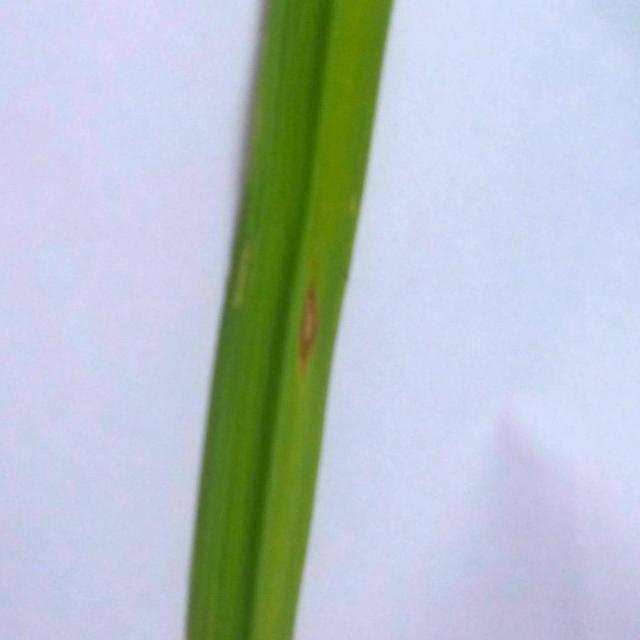Leaf blast: (170, 0, 442, 640)
